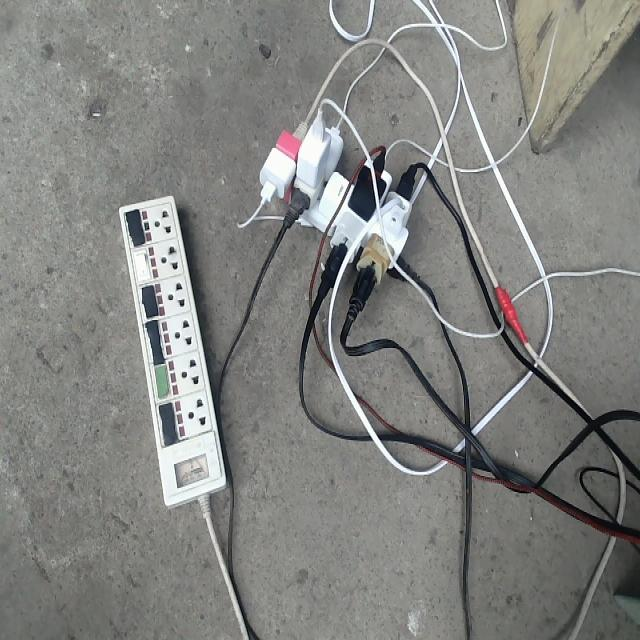-: (222, 76, 466, 387)
